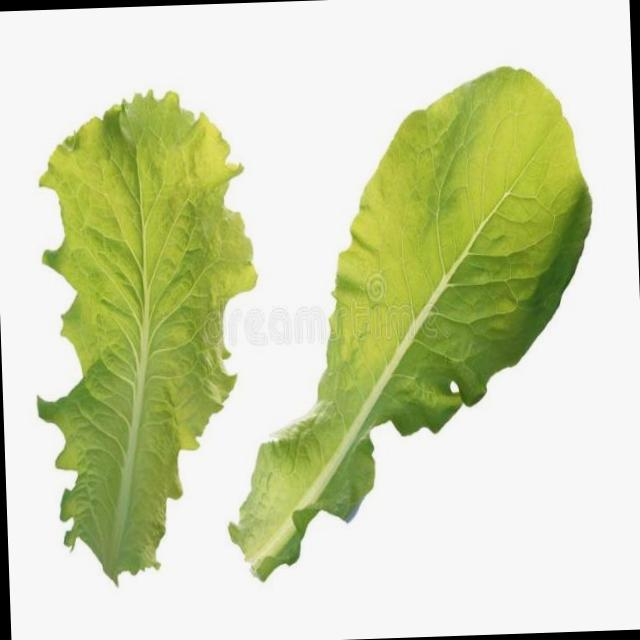Lettuce-Ready-to-Harvest: (230, 69, 590, 578), (38, 93, 255, 579)
